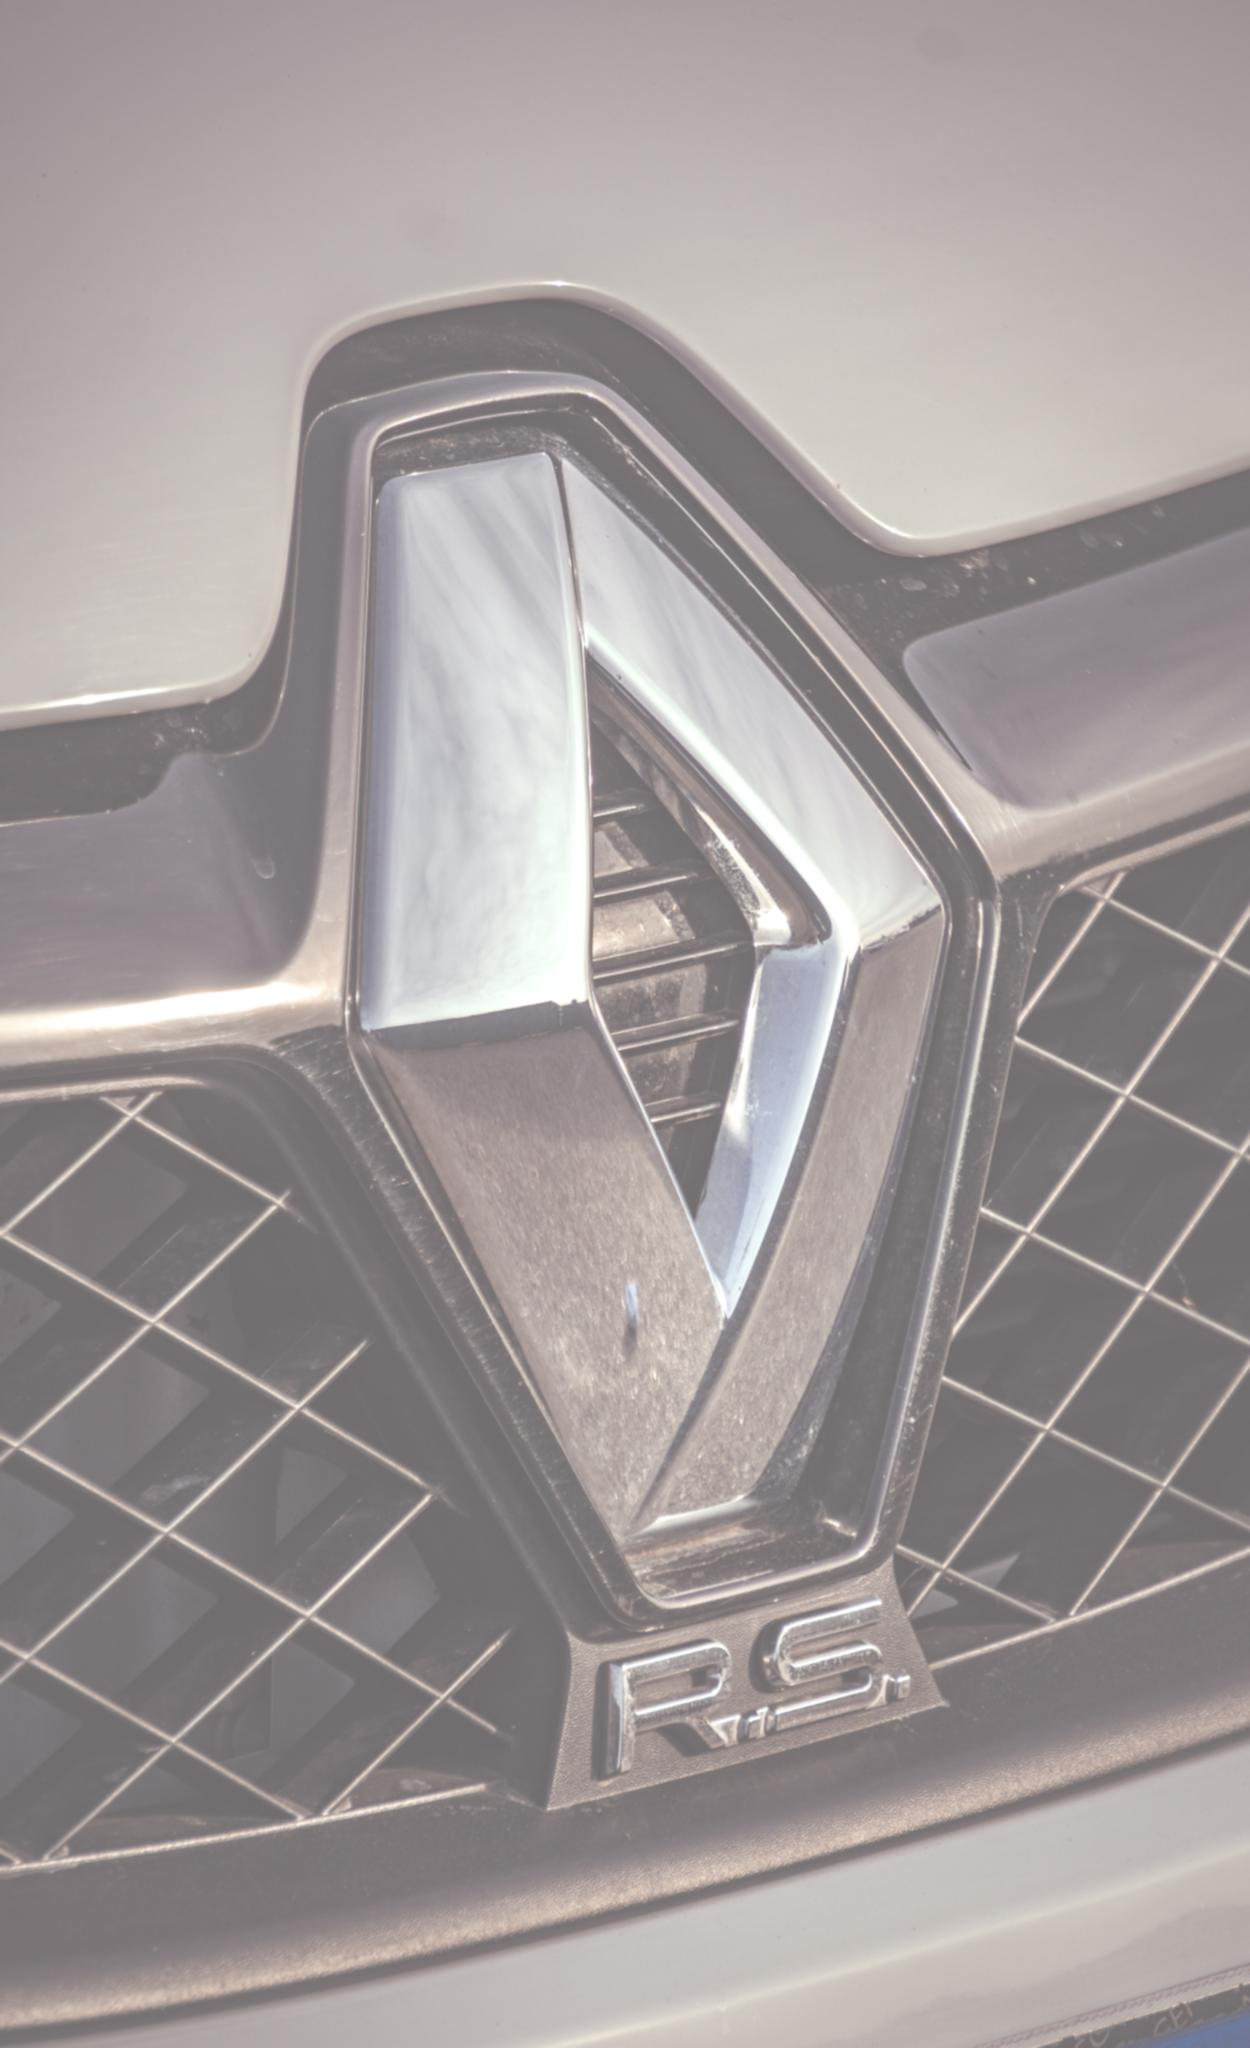Renault: (249, 372, 1016, 1595)
